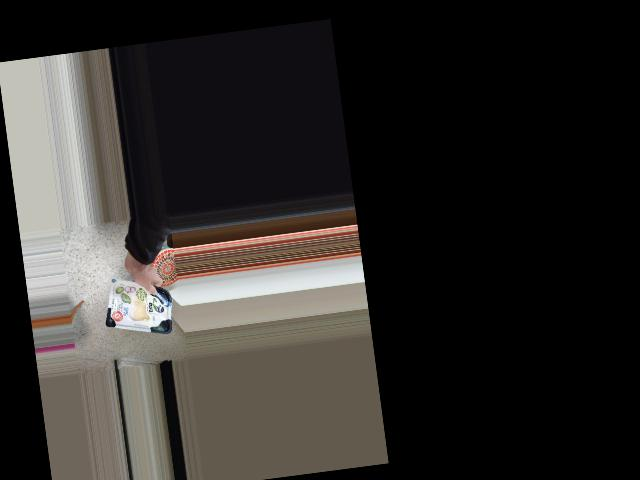cheese: (103, 271, 177, 341)
